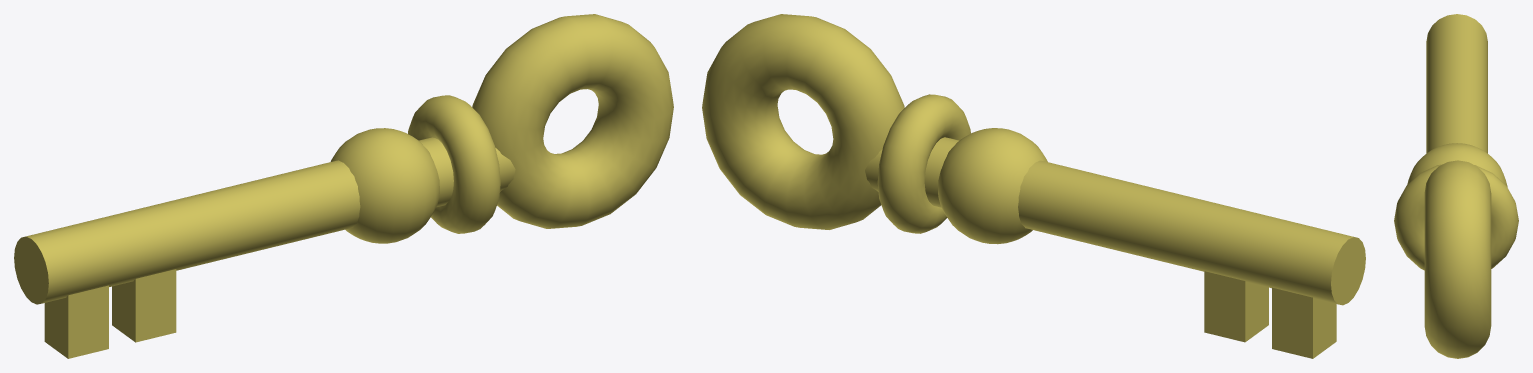
Rendered from Key.fbx.
3 views of the same model, side by side, from view 1: azimuth 30°, elevation 25°; view 2: azimuth 150°, elevation 25°; view 3: azimuth 270°, elevation 25° (orthographic). The views are drawn at different scales.
Parts seen in each view (by area): view 1: KeyBody1; view 2: KeyBody1; view 3: KeyBody1.
Boxes of the visible parts, <box> form: KeyBody1: <box>14,14,673,358</box>; KeyBody1: <box>702,14,1365,358</box>; KeyBody1: <box>1394,14,1518,358</box>.
Bounding box in the file's own units: 15.63 × 4.8 × 3.
